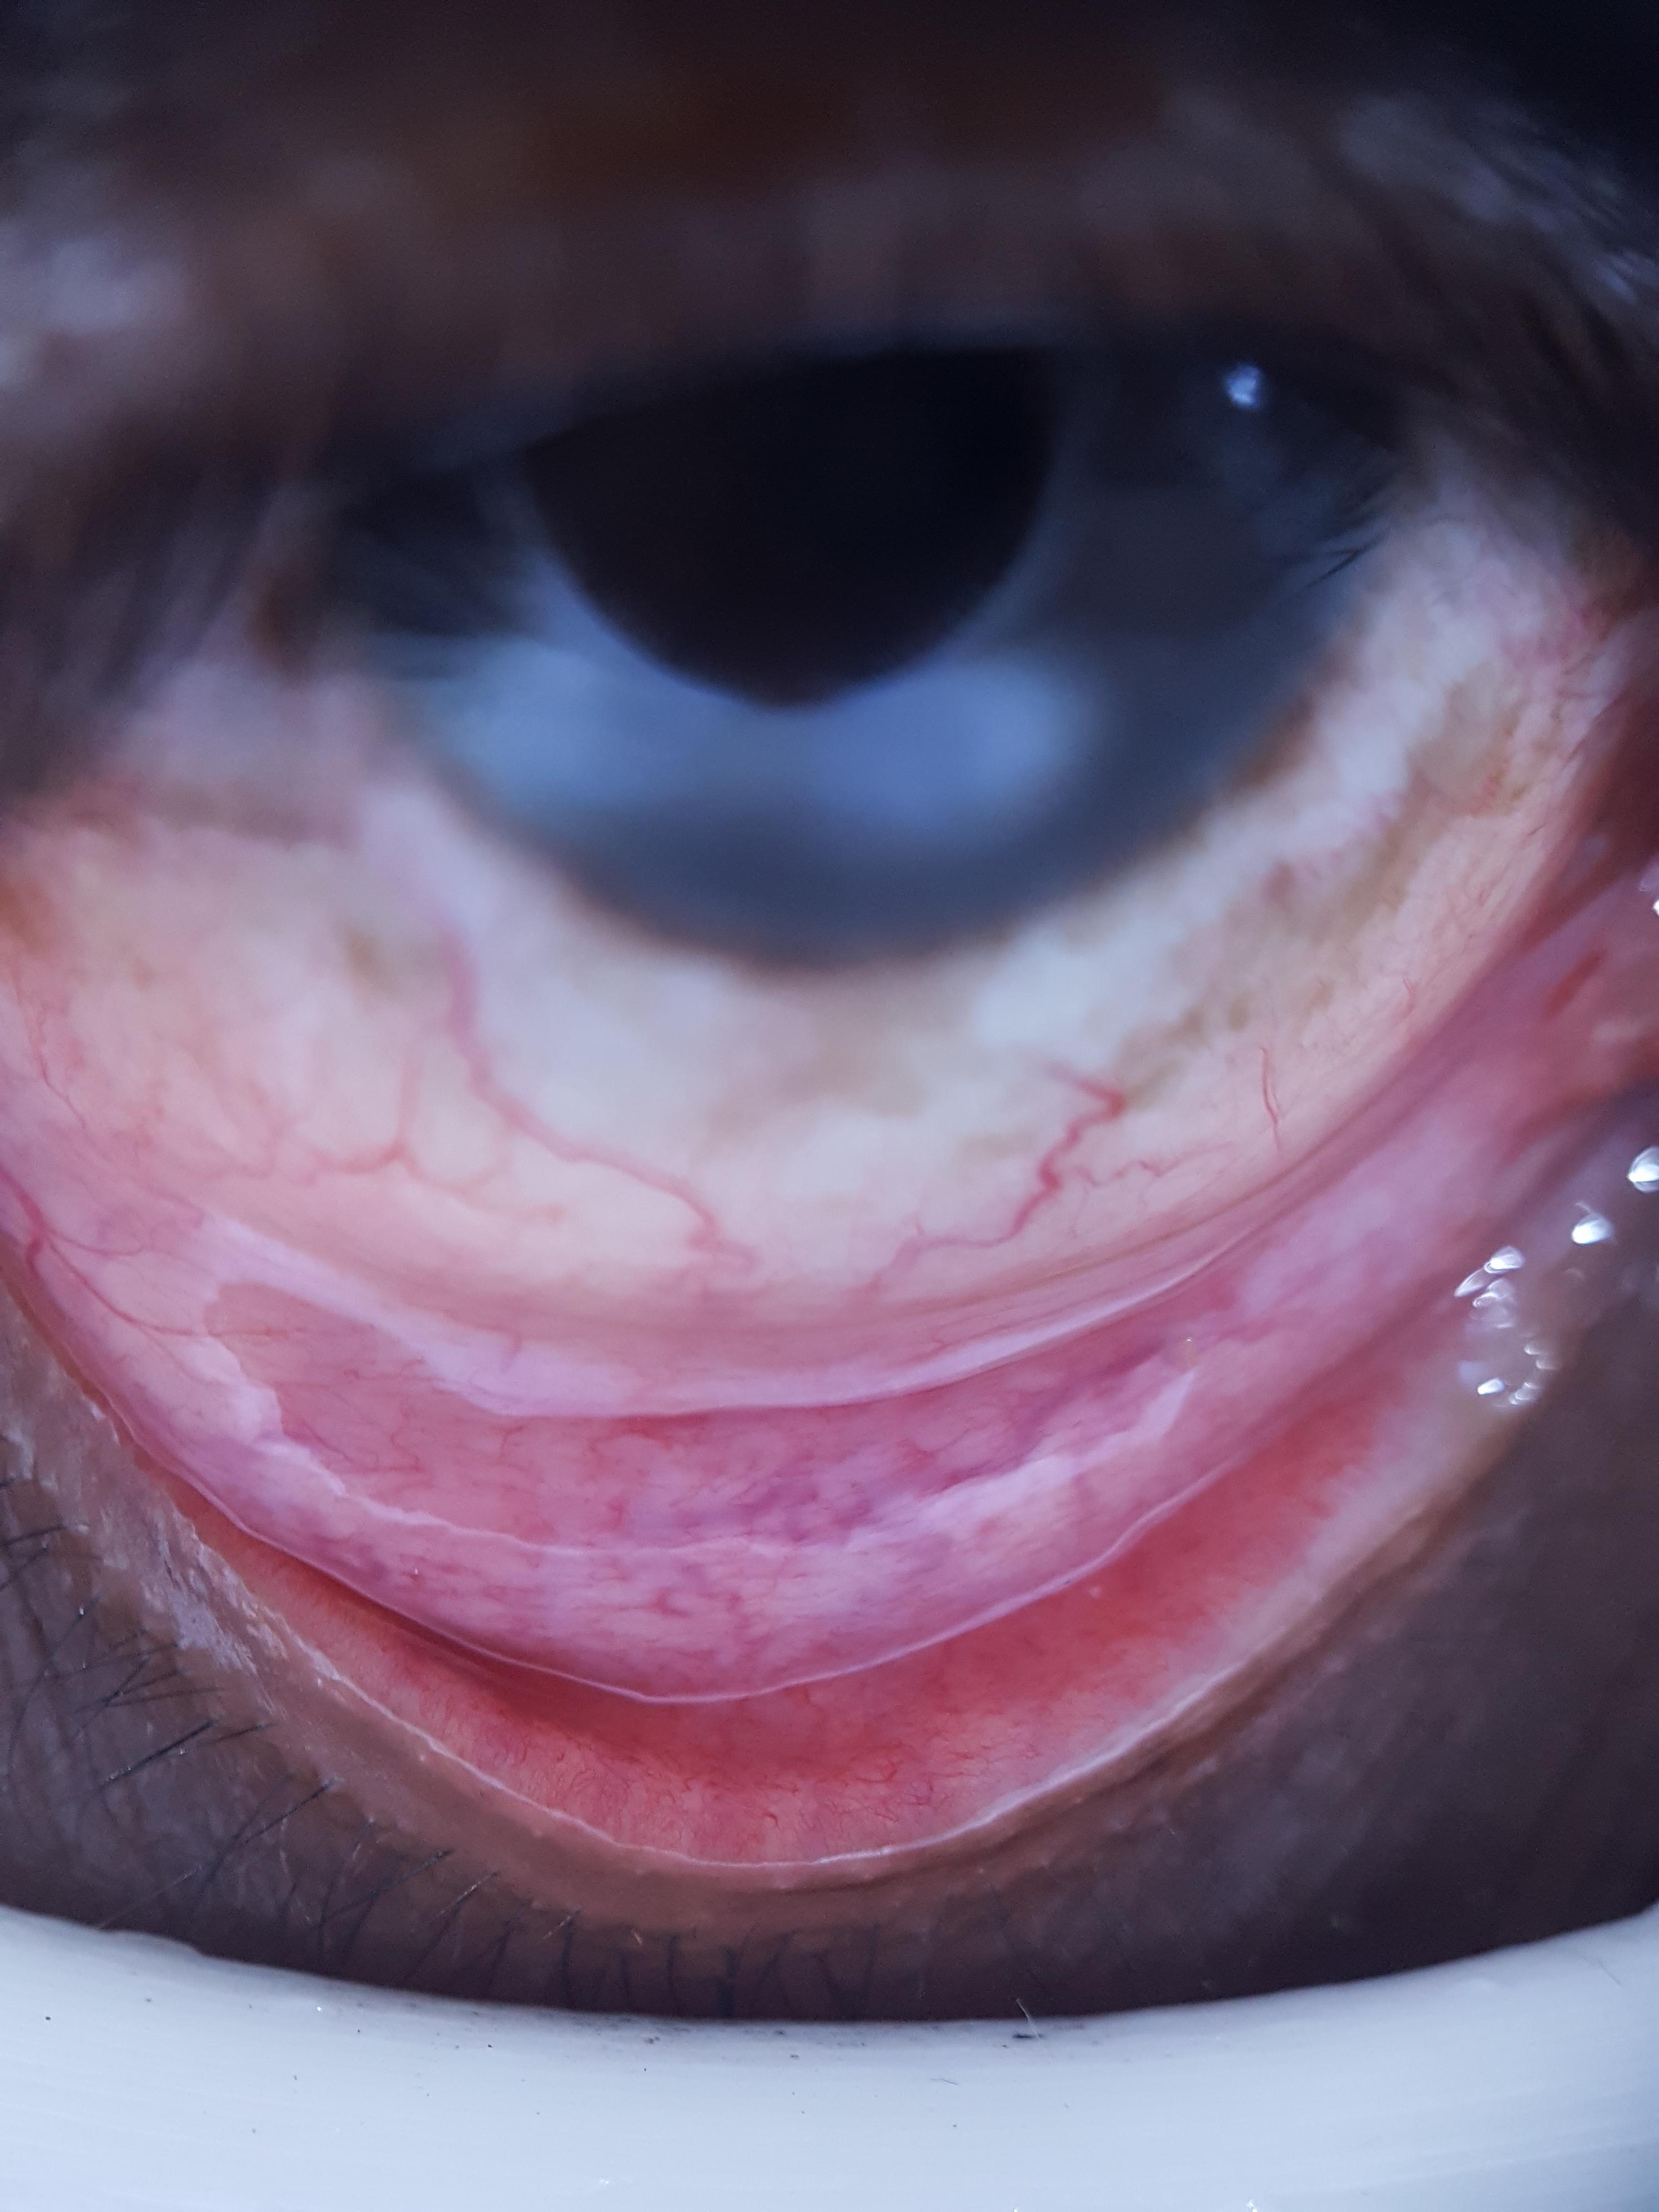forniceal: (0, 852, 1659, 1705)
forniceal_palpebral: (0, 848, 1659, 1836)
palpebral: (235, 1266, 1462, 1829)
